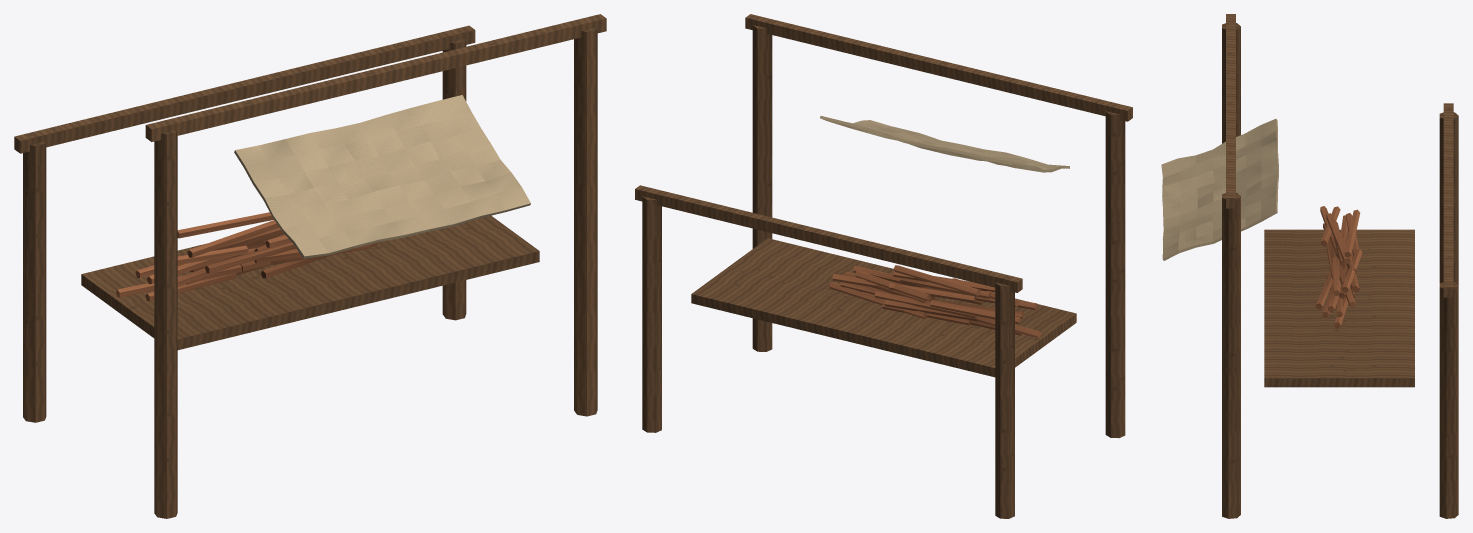
Rendered from leanto_wood.glb.
The picture shows the model from 3 angles, left to right: view 1: azimuth 30°, elevation 25°; view 2: azimuth 150°, elevation 25°; view 3: azimuth 270°, elevation 25°; orthographic projection. The views are drawn at different scales.
Visible parts, largest first — view 1: leanto_wood; view 2: leanto_wood; view 3: leanto_wood.
Boxes of the visible parts, box(x1,y1,x2,y2) form: leanto_wood: box(14, 14, 606, 518); leanto_wood: box(635, 14, 1132, 518); leanto_wood: box(1161, 14, 1458, 518).
Size of the model in its own units: 2.6 by 2.13 by 1.78.
3 materials, 3 textured.
